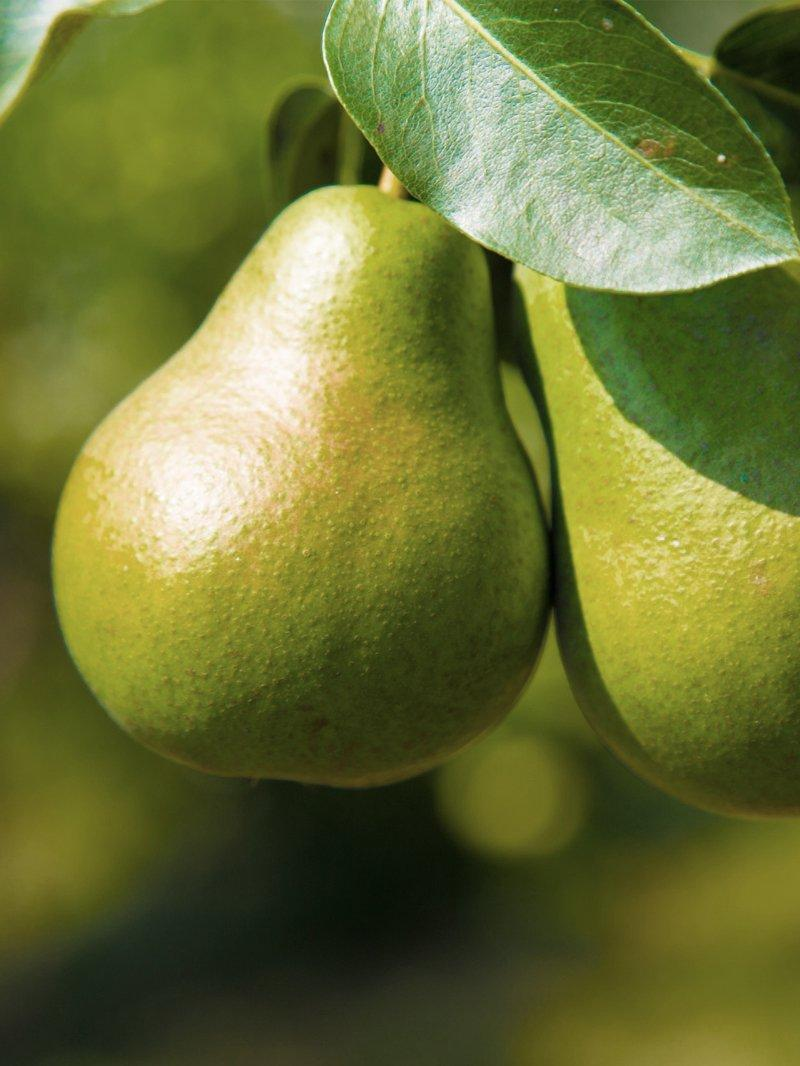pear: (49, 181, 553, 790), (509, 246, 799, 821)
